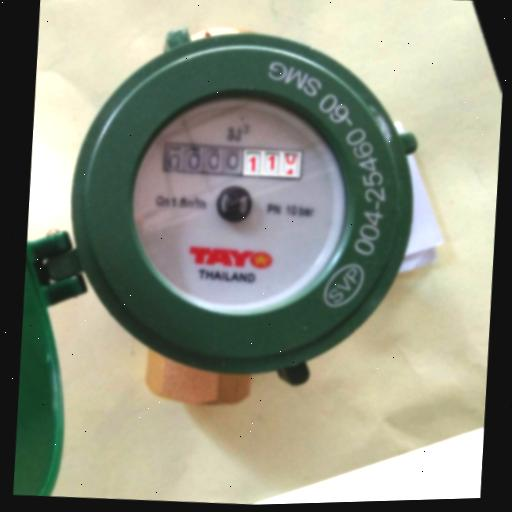0: (220, 147, 243, 175), (163, 144, 185, 172), (183, 145, 204, 173), (203, 146, 222, 175), (282, 153, 297, 176)
1: (245, 150, 262, 174), (265, 153, 280, 175)
border_water_meter_number: (161, 136, 304, 184)
